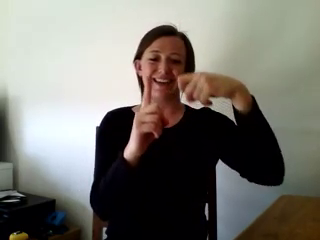K: (128, 64, 230, 151)
